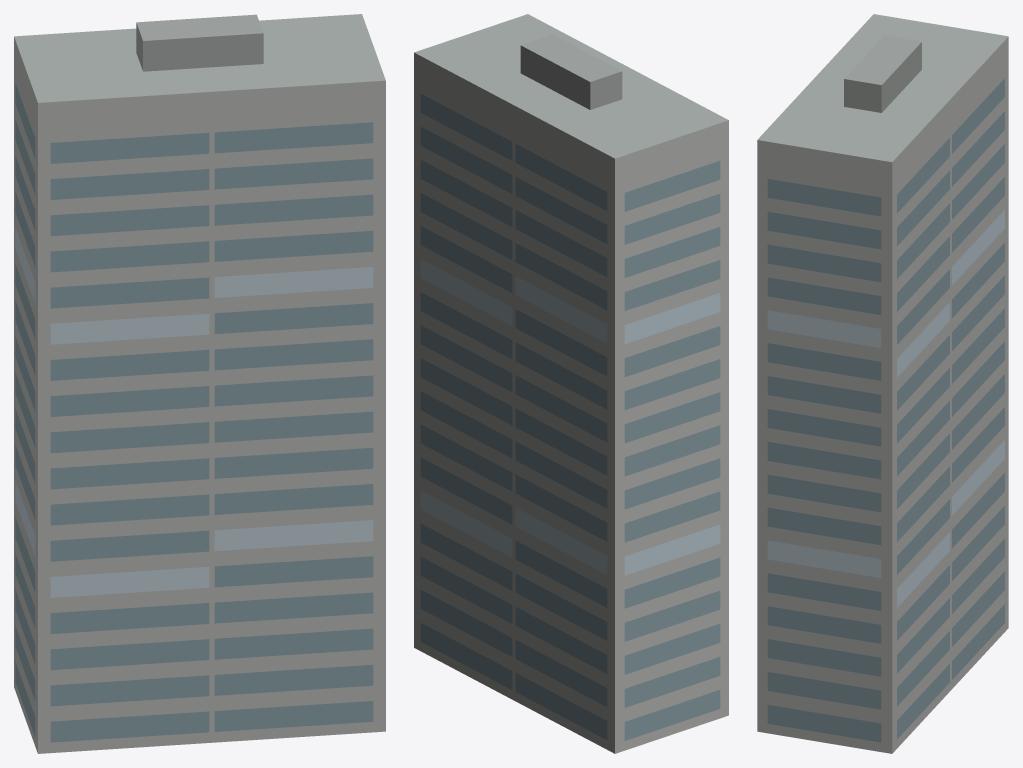
File: fallback-jamsil-els-151.glb
3 views of the same model, side by side, from view 1: azimuth 30°, elevation 25°; view 2: azimuth 150°, elevation 25°; view 3: azimuth 270°, elevation 25° (orthographic). The views are drawn at different scales.
Visible parts, largest first — view 1: fallback-jamsil-els-151; view 2: fallback-jamsil-els-151; view 3: fallback-jamsil-els-151.
Part boxes in pixels (x1=…): fallback-jamsil-els-151: x1=14, y1=14, x2=385, y2=753; fallback-jamsil-els-151: x1=414, y1=14, x2=728, y2=753; fallback-jamsil-els-151: x1=757, y1=14, x2=1008, y2=753.
Size of the model in its own units: 25.15 by 49 by 18.02.
